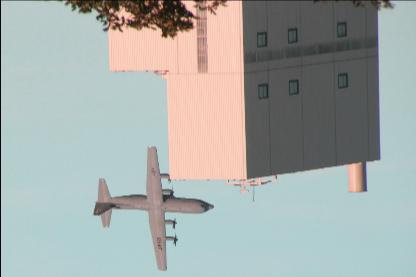Be200: (93, 146, 213, 271)
